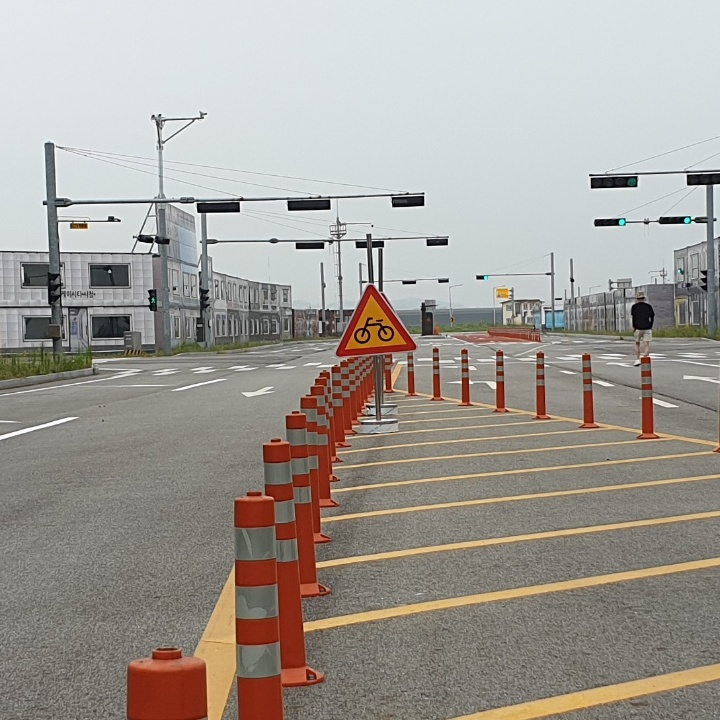bicycle: (337, 285, 417, 358)
